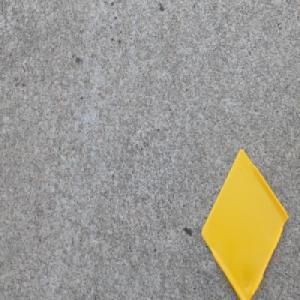PlasticPart: (200, 146, 289, 300)
